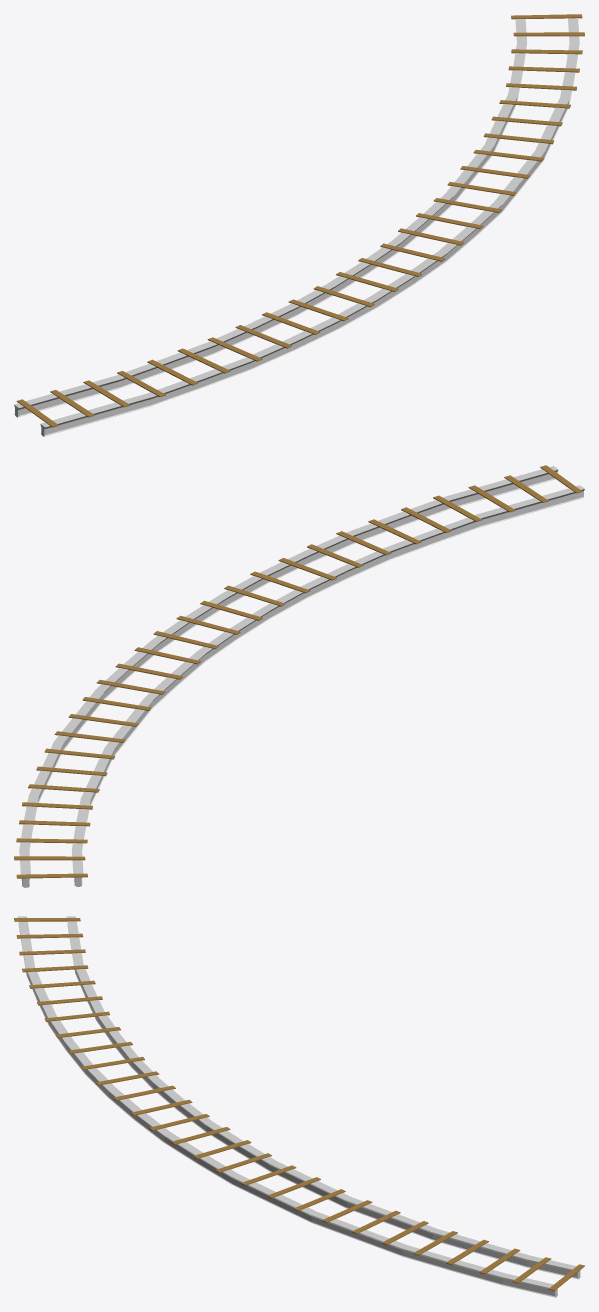
The model's file is 60dgTurn.fbx.
3 renders of one model, top to bottom at view 1: azimuth 30°, elevation 25°; view 2: azimuth 210°, elevation 25°; view 3: azimuth 270°, elevation 25°, orthographic. The views are drawn at different scales.
Visible parts, largest first — view 1: Top, Bot; view 2: Top, Bot; view 3: Top, Bot.
Part boxes in pixels (x1=…): Top: x1=14, y1=18, x2=579, y2=436; Bot: x1=16, y1=14, x2=584, y2=427; Top: x1=19, y1=466, x2=584, y2=887; Bot: x1=14, y1=465, x2=582, y2=878; Top: x1=17, y1=916, x2=580, y2=1297; Bot: x1=14, y1=918, x2=584, y2=1290.
Size of the model in its own units: 4461 by 58.2 by 2873.
